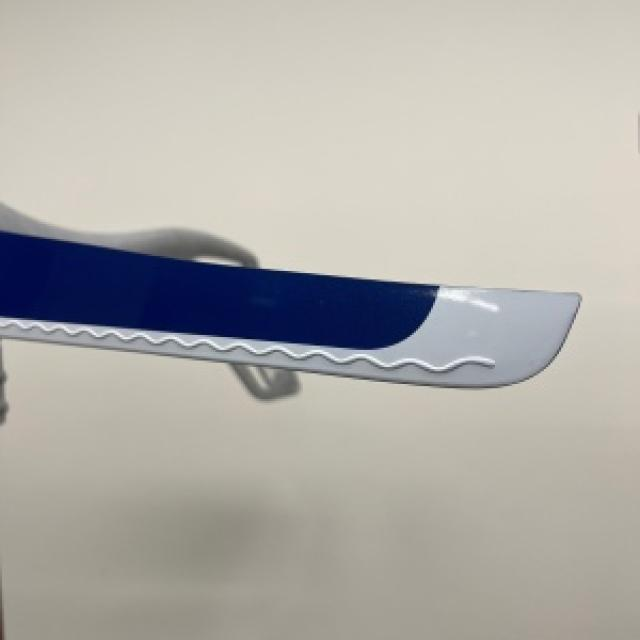healthy: (0, 203, 574, 397)
